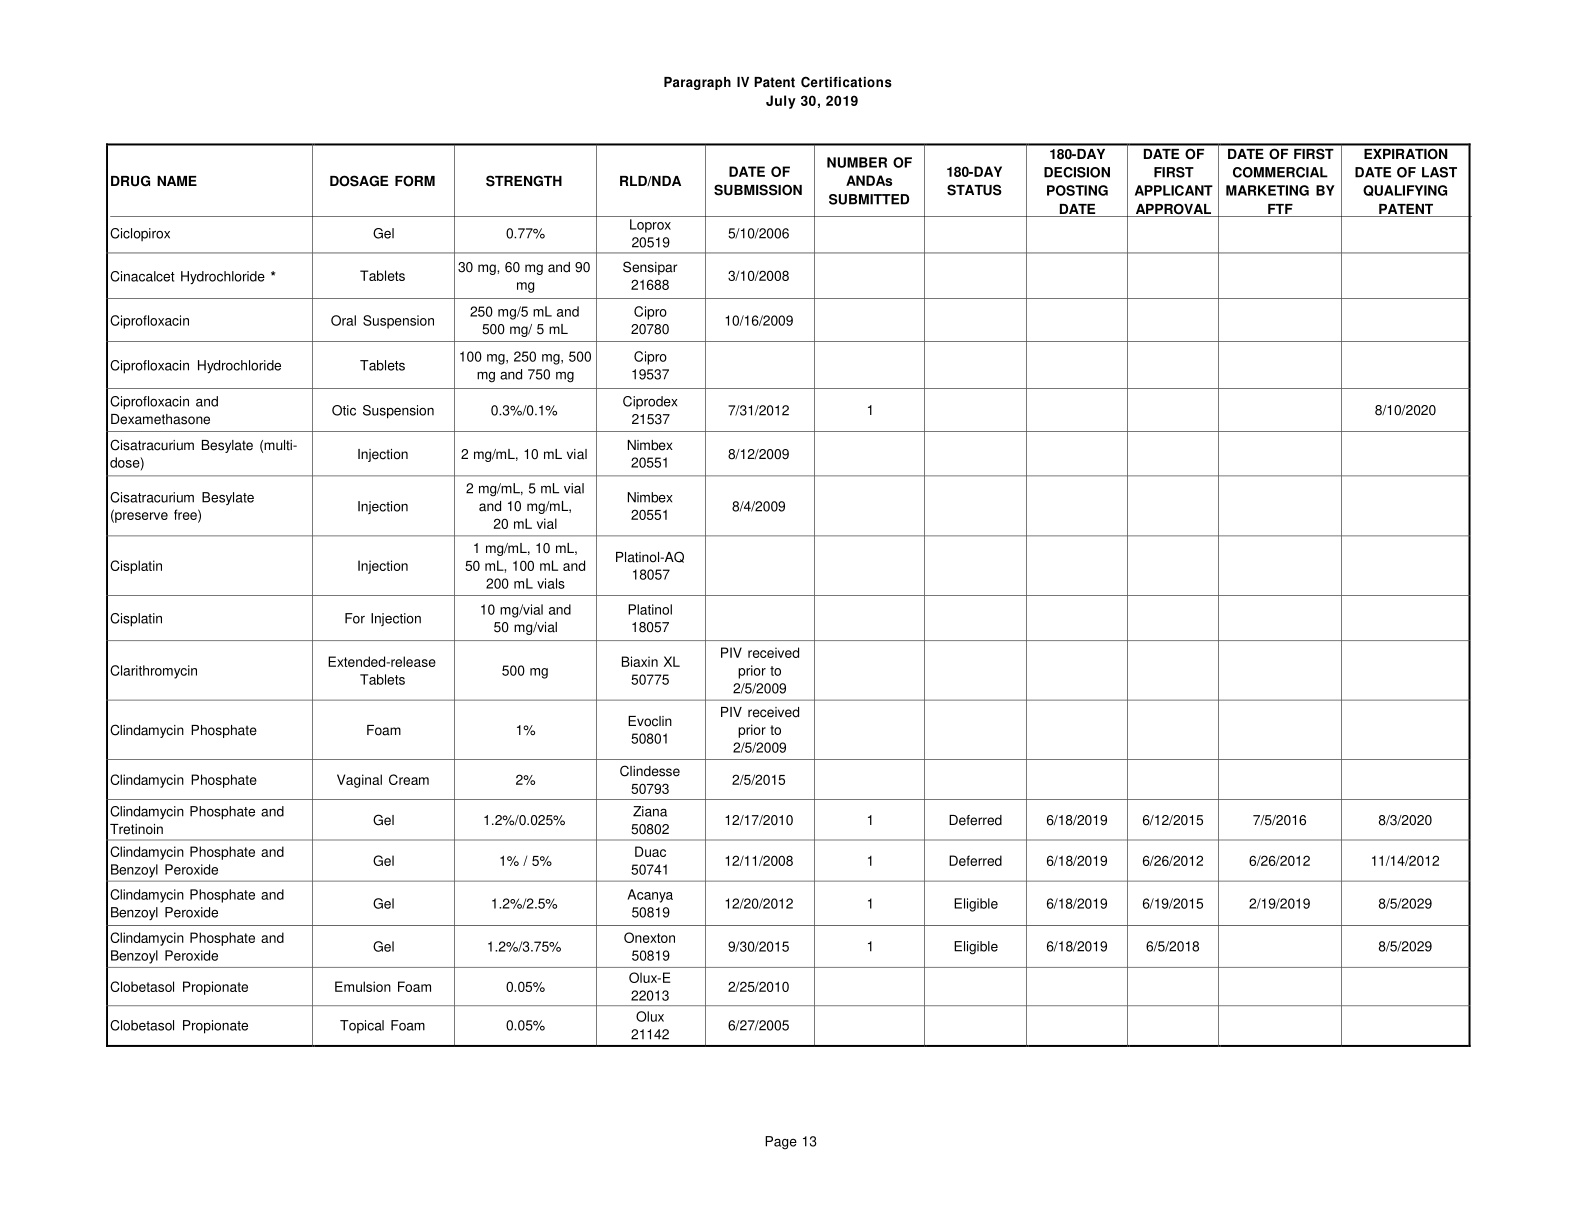full_lined: (105, 141, 1471, 1048)
